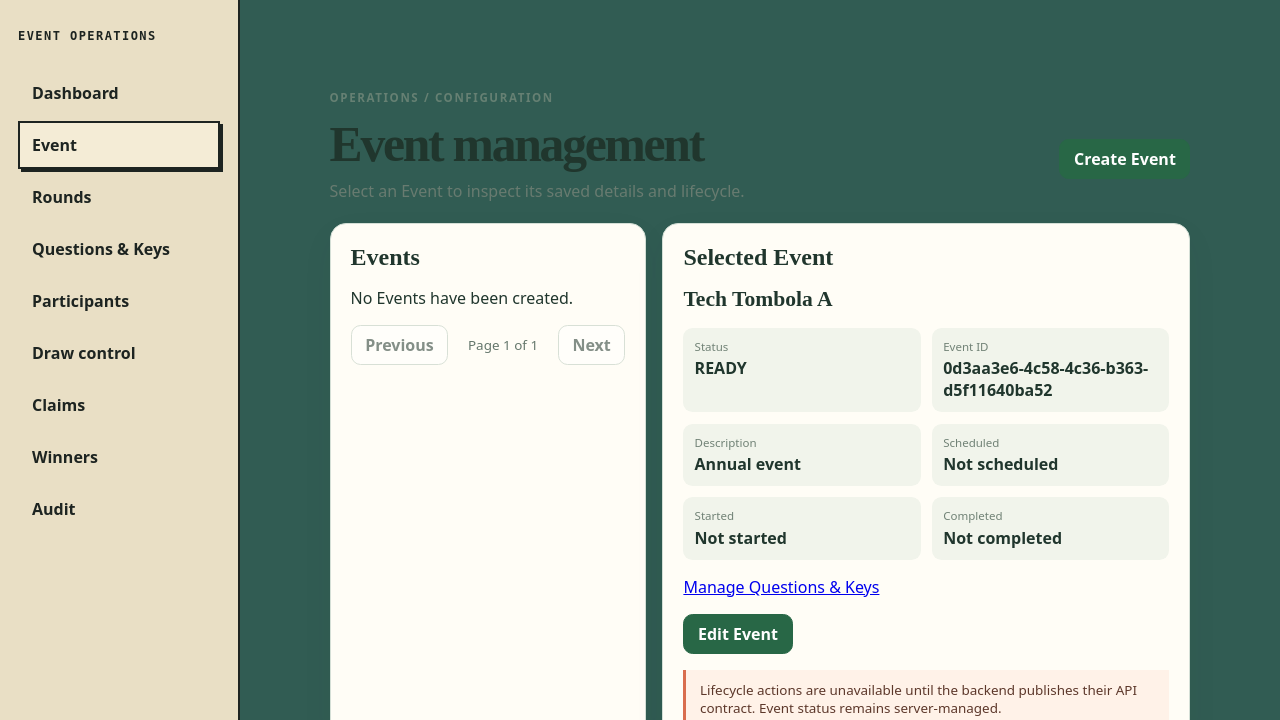
Test case: Admin Event management › preserves the selected Event scope when navigating to another admin route
The width and height of the screenshot is (1280, 720).
Expected: the text "Annual event" is shown, [695,453,801,475]
Click the link "Rounds". click: {"x": 62, "y": 197}
box: [32,186,92,208]
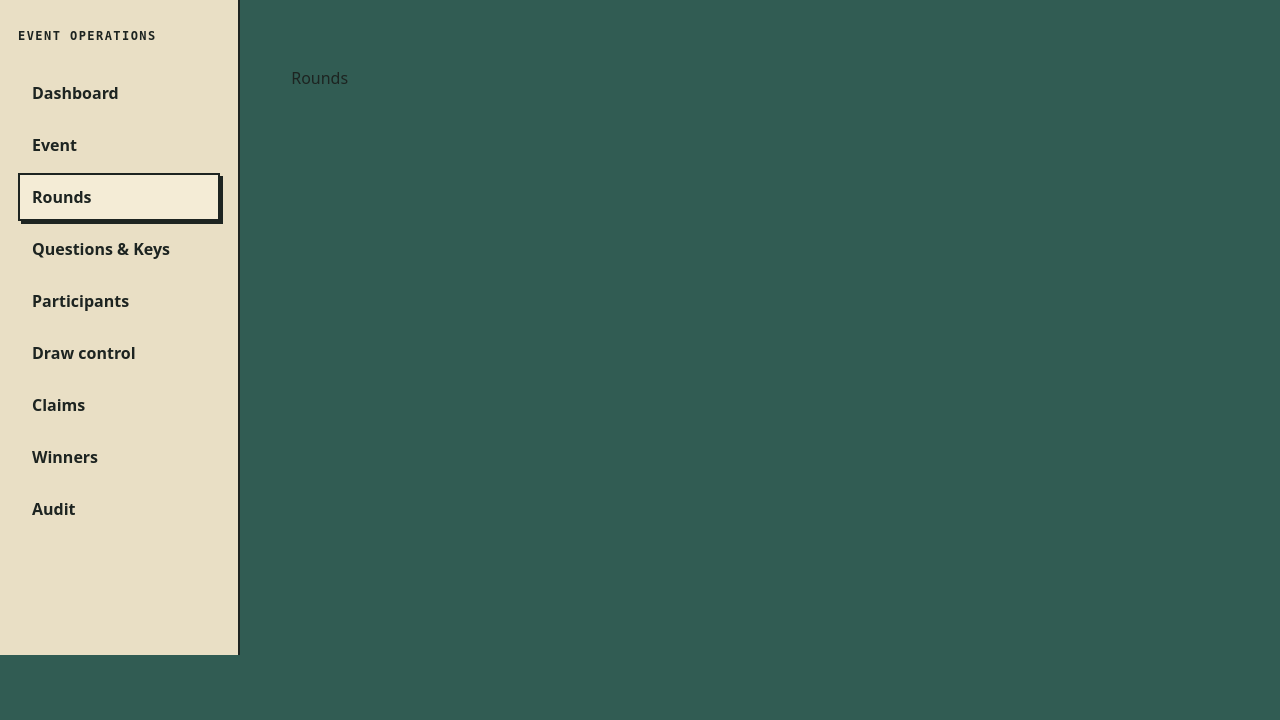
Now the text "Rounds" is shown, box [291,67,348,89]
